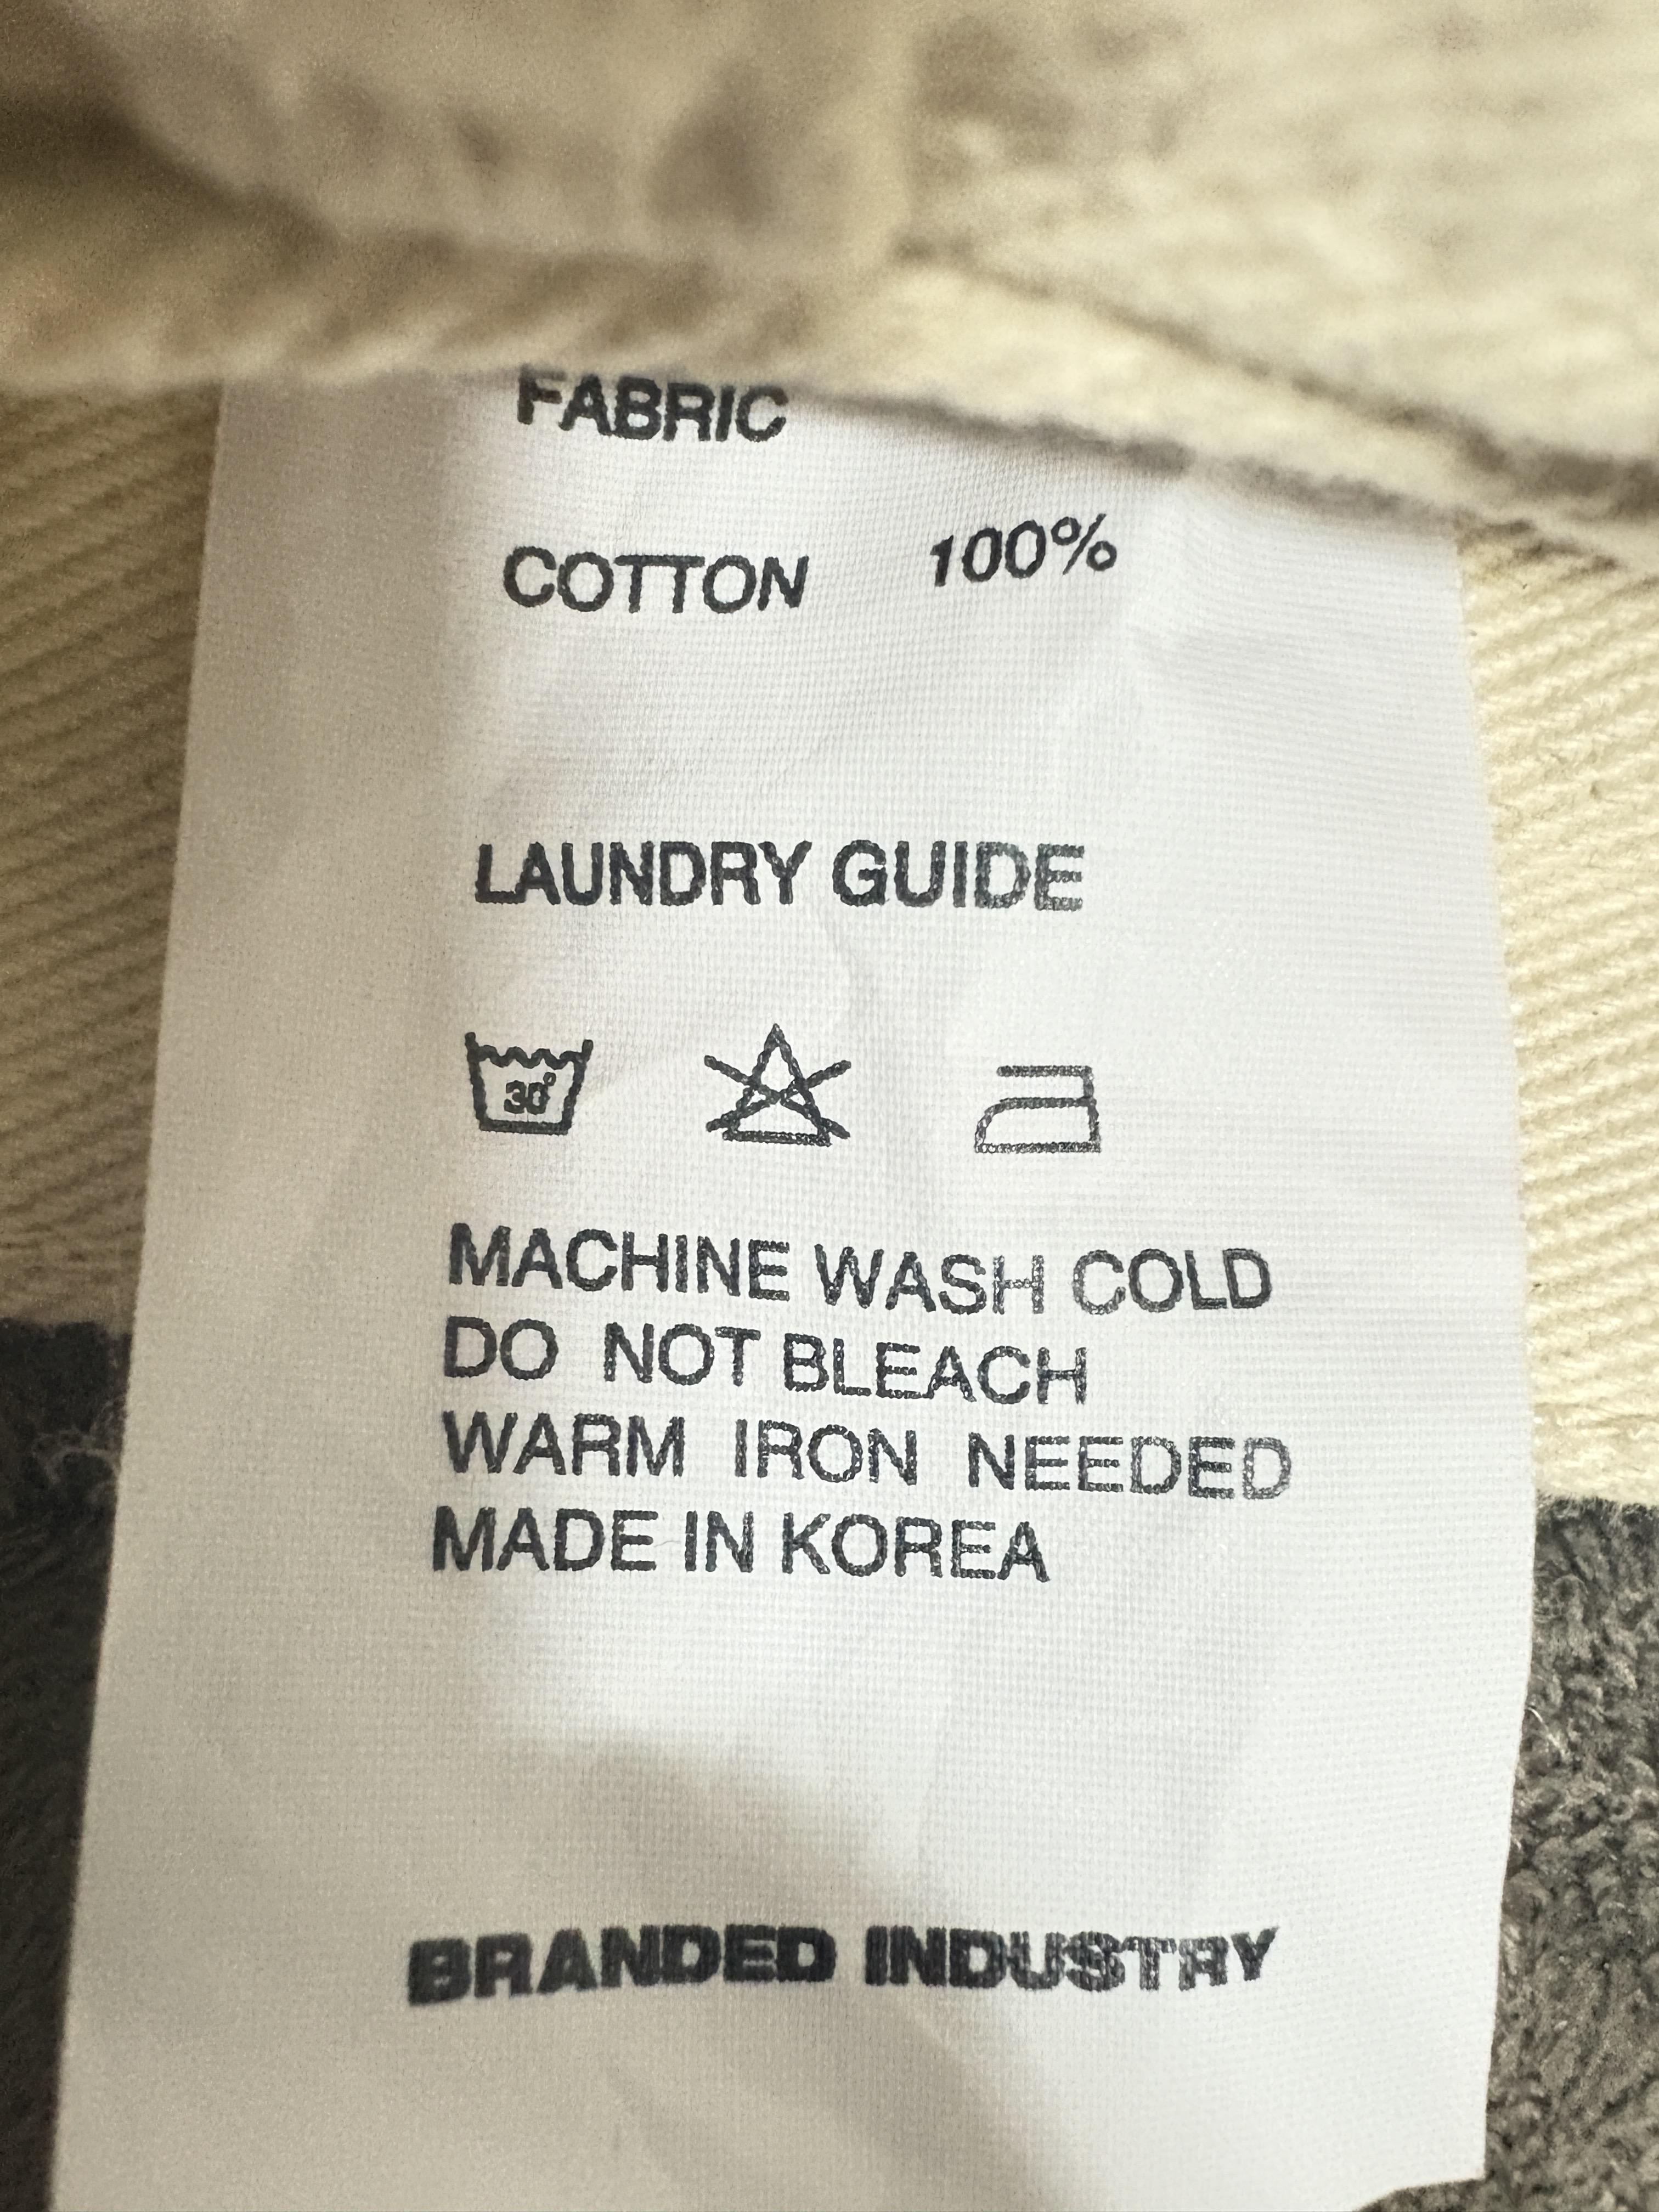30C: (457, 1024, 598, 1150)
DN_bleach: (692, 1029, 859, 1157)
iron: (953, 1055, 1127, 1163)
